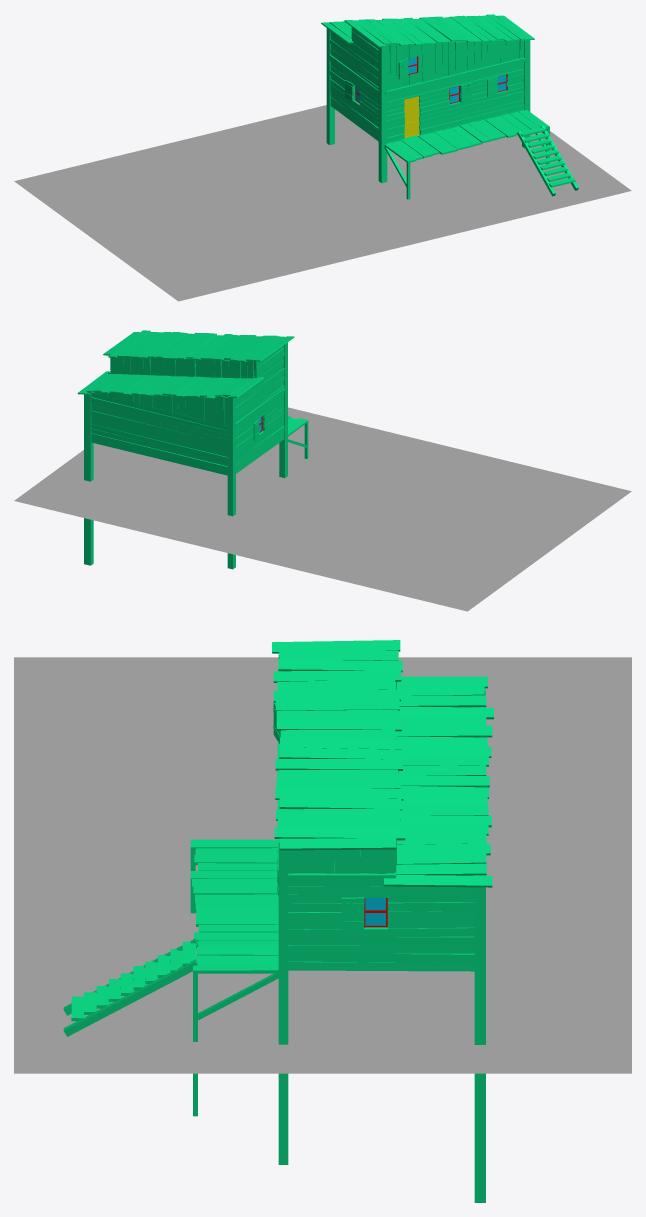
Rendered from casa2pirata.fbx.
The picture shows the model from 3 angles, top to bottom: view 1: azimuth 30°, elevation 25°; view 2: azimuth 150°, elevation 25°; view 3: azimuth 270°, elevation 25°; orthographic projection. The views are drawn at different scales.
Parts seen in each view (by area): view 1: pPlane2, pasted__MASH_ReproMesh2, MASH9_ReproMesh2, MASH10_ReproMesh2, Armação21, polySurface406, Armação24, polySurface272, Armação27, pCube8, polySurface356, polySurface407 (+7 smaller); view 2: pPlane2, pasted__MASH5_ReproMesh2, pasted__MASH_ReproMesh2, pasted__MASH1_ReproMesh2, pasted__MASH8_ReproMesh2, pasted__MASH7_ReproMesh2, Armação23, Armação24, polySurface406, Armação21; view 3: pPlane2, pasted__MASH_ReproMesh2, pasted__MASH1_ReproMesh2, MASH9_ReproMesh2, polySurface382, Armação23, Armação22, MASH10_ReproMesh2, polySurface373, polySurface379, polySurface381, polySurface380 (+4 smaller).
Part boxes in pixels (bbox=[...]): pPlane2: bbox=[14, 105, 631, 301]; pasted__MASH_ReproMesh2: bbox=[344, 14, 534, 47]; MASH9_ReproMesh2: bbox=[384, 110, 549, 162]; MASH10_ReproMesh2: bbox=[520, 127, 575, 187]; Armação21: bbox=[378, 44, 387, 183]; polySurface406: bbox=[330, 66, 378, 122]; Armação24: bbox=[326, 28, 334, 144]; polySurface272: bbox=[387, 64, 523, 101]; Armação27: bbox=[385, 57, 525, 94]; pCube8: bbox=[404, 96, 419, 137]; polySurface356: bbox=[419, 104, 524, 134]; polySurface407: bbox=[387, 68, 523, 106]; pPlane2: bbox=[14, 407, 631, 611]; pasted__MASH5_ReproMesh2: bbox=[87, 392, 227, 475]; pasted__MASH_ReproMesh2: bbox=[103, 330, 294, 361]; pasted__MASH1_ReproMesh2: bbox=[77, 371, 263, 398]; pasted__MASH8_ReproMesh2: bbox=[111, 357, 254, 378]; pasted__MASH7_ReproMesh2: bbox=[88, 392, 227, 425]; Armação23: bbox=[84, 393, 93, 565]; Armação24: bbox=[227, 396, 235, 569]; polySurface406: bbox=[236, 399, 284, 456]; Armação21: bbox=[279, 342, 287, 477]; pPlane2: bbox=[14, 657, 631, 1073]; pasted__MASH_ReproMesh2: bbox=[272, 640, 405, 850]; pasted__MASH1_ReproMesh2: bbox=[384, 676, 493, 887]; MASH9_ReproMesh2: bbox=[190, 839, 278, 973]; polySurface382: bbox=[288, 894, 474, 937]; Armação23: bbox=[474, 875, 485, 1202]; Armação22: bbox=[278, 839, 288, 1164]; MASH10_ReproMesh2: bbox=[71, 941, 196, 1021]; polySurface373: bbox=[288, 961, 474, 971]; polySurface379: bbox=[288, 936, 474, 945]; polySurface381: bbox=[288, 953, 474, 962]; polySurface380: bbox=[288, 945, 474, 954].
Bounding box in the file's own units: 28.82 × 13.64 × 18.09.
